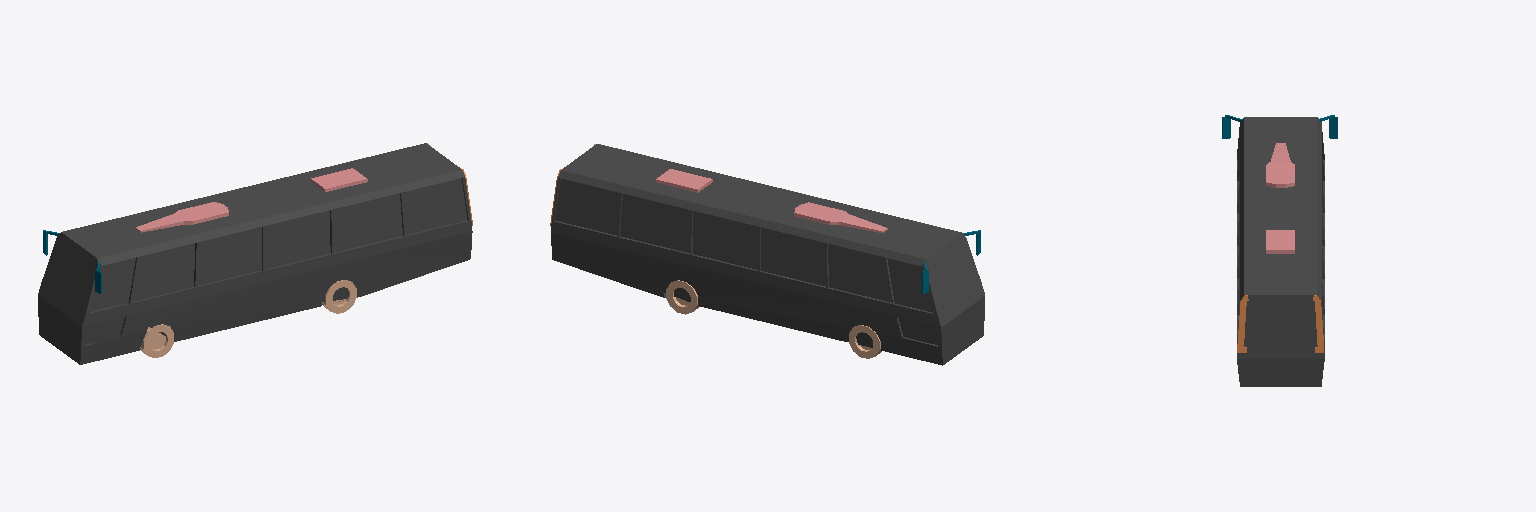
File: bus.obj
3 views of the same model, side by side, from view 1: azimuth 30°, elevation 25°; view 2: azimuth 150°, elevation 25°; view 3: azimuth 270°, elevation 25° (orthographic).
Parts seen in each view (by area): view 1: Box001, Box003, Cylinder004, Box002, Cylinder003; view 2: Box001, Box003, Box002, Cylinder002, Cylinder001; view 3: Box001, Box003, Box002.
Part boxes in pixels (bbox=[...]): Box001: bbox=[38, 143, 472, 364]; Box003: bbox=[136, 202, 228, 232]; Cylinder004: bbox=[140, 324, 173, 357]; Box002: bbox=[311, 168, 367, 191]; Cylinder003: bbox=[322, 280, 356, 313]; Box001: bbox=[551, 144, 984, 365]; Box003: bbox=[794, 202, 887, 232]; Box002: bbox=[656, 169, 712, 192]; Cylinder002: bbox=[666, 280, 699, 314]; Cylinder001: bbox=[849, 325, 881, 358]; Box001: bbox=[1237, 117, 1324, 386]; Box003: bbox=[1266, 143, 1294, 187]; Box002: bbox=[1266, 230, 1294, 253].
Size of the model in its own units: 13.07 by 3.64 by 3.33.